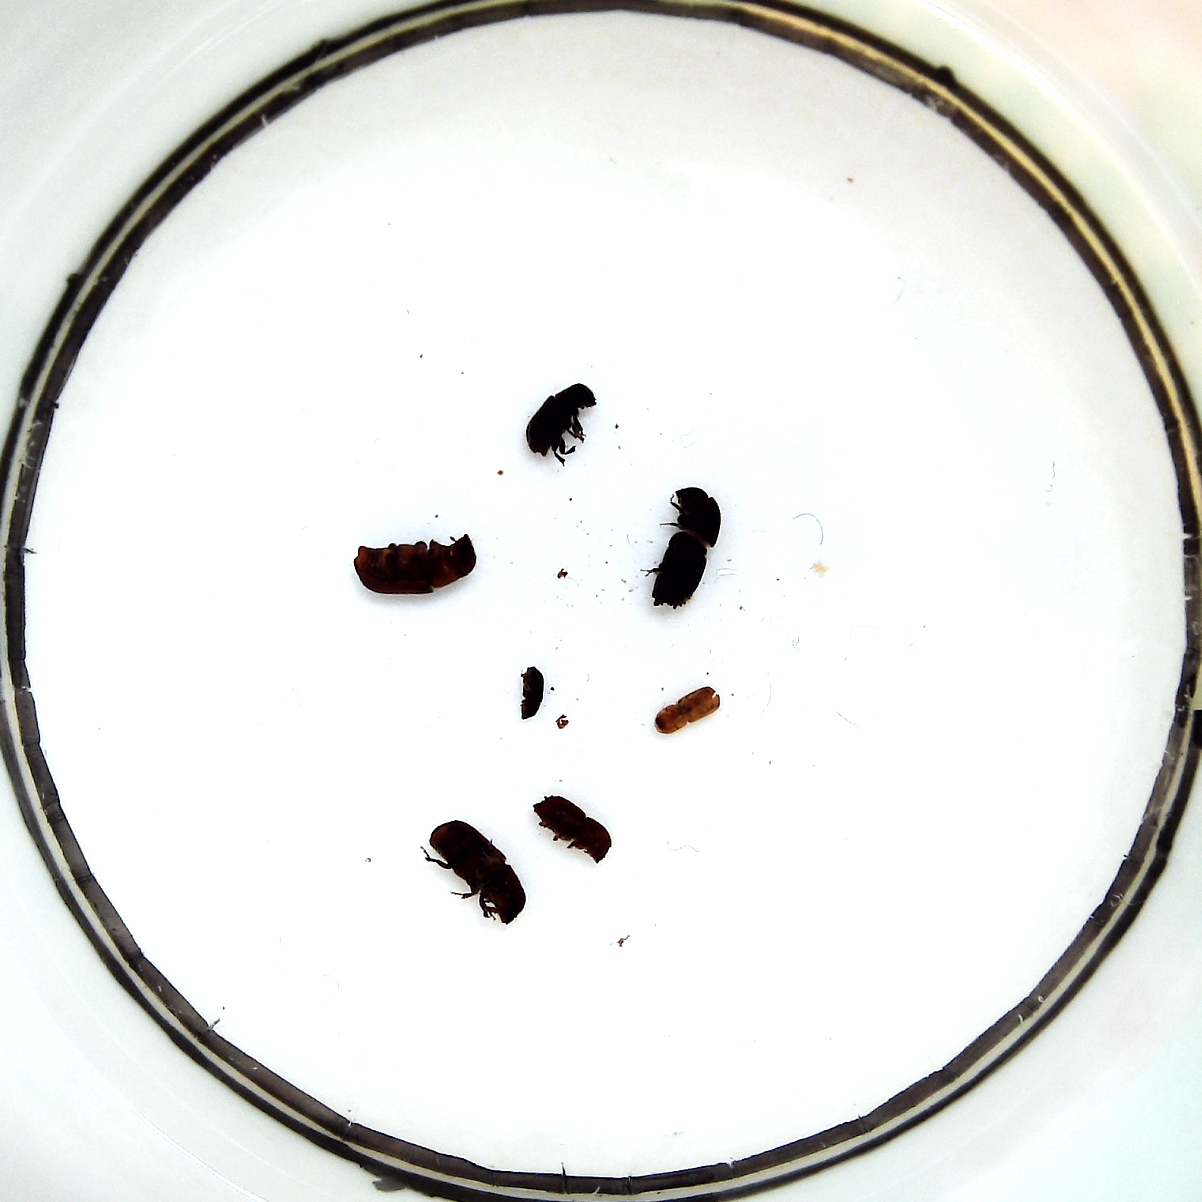Boerner: (651, 487, 721, 609)
Leconte: (429, 820, 526, 925), (354, 534, 477, 595)
acuminatus: (520, 666, 544, 720)
armandi: (526, 384, 598, 458)
coleoptera: (654, 686, 720, 734)
linnaeus: (533, 795, 612, 864)
